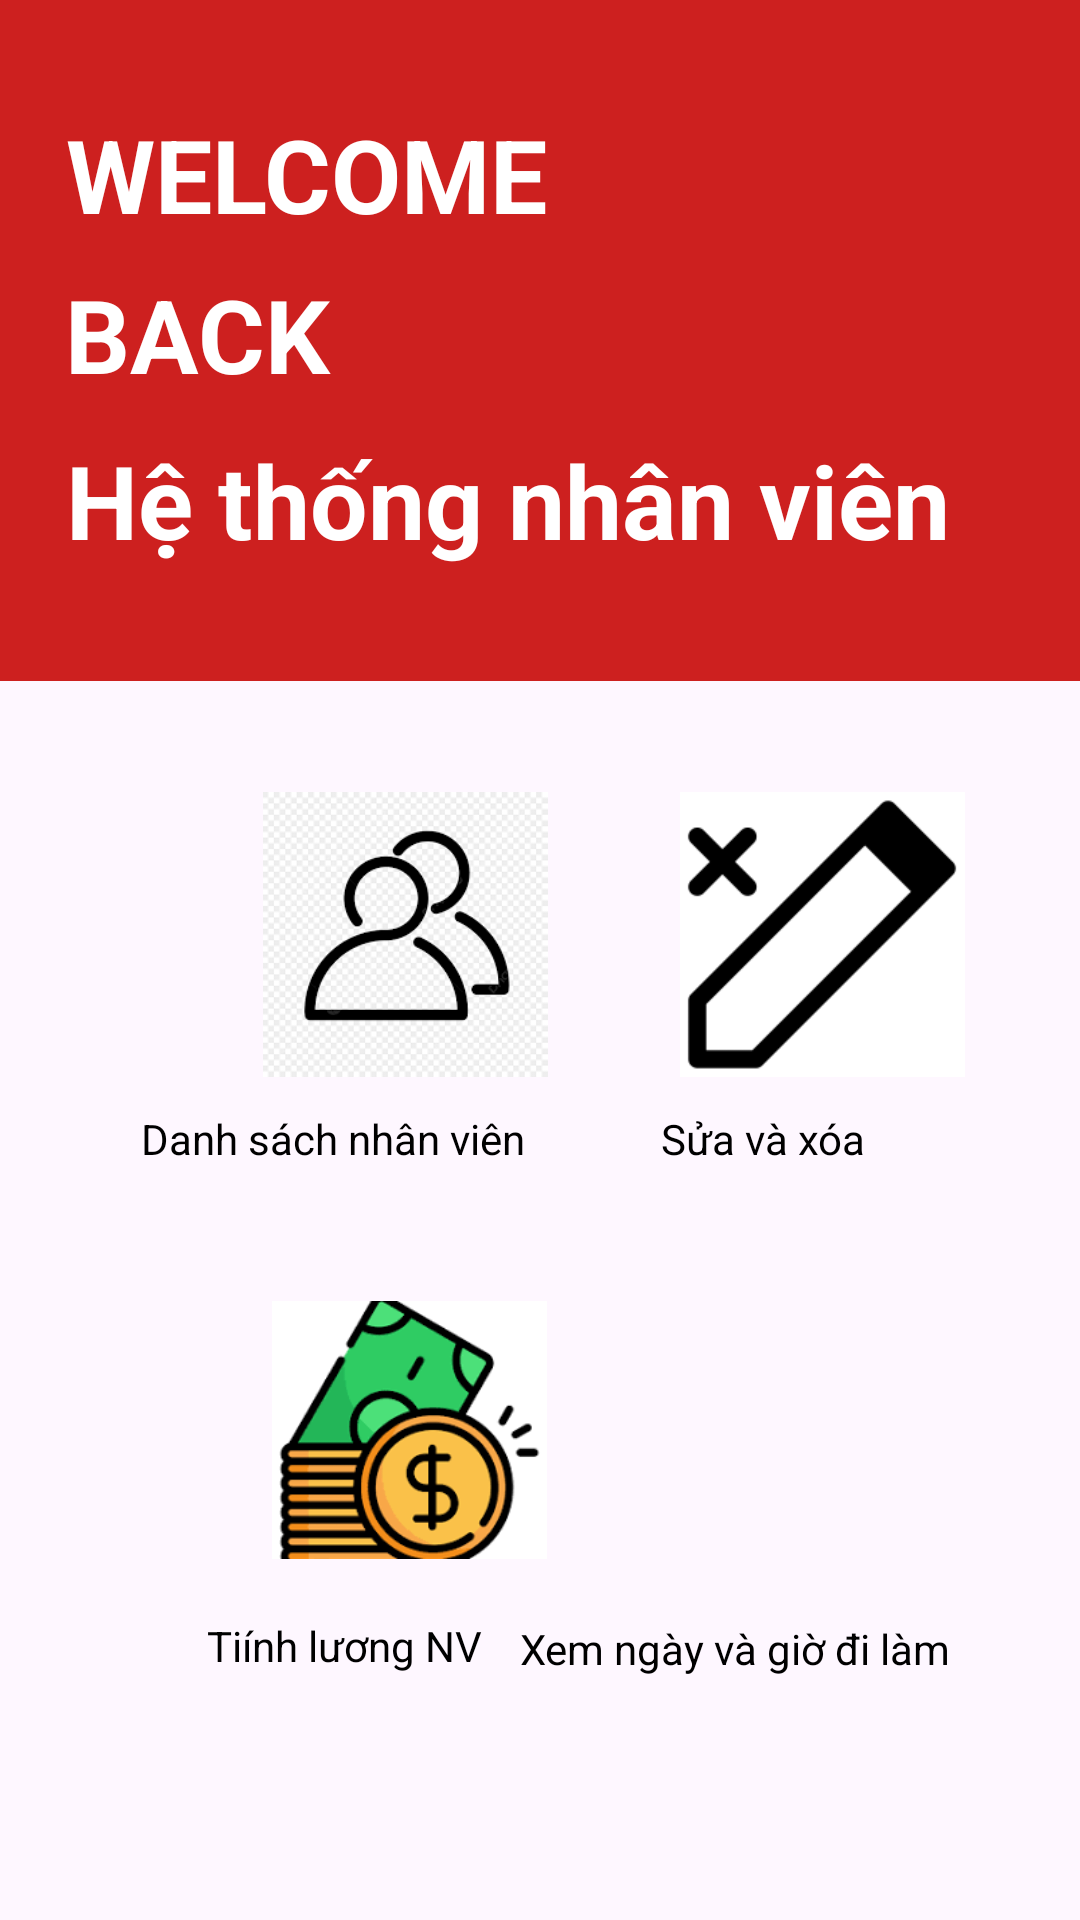

Icon bounding boxes for this 1080px x 1920px phone screenshot, format (x1,y1,x2,y2):
moneny: (280,1301,539,1559)
updatesave: (688,800,956,1069)
